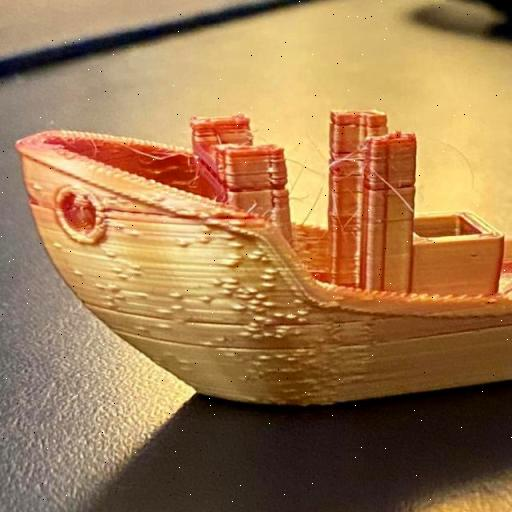blobs: (225, 254, 246, 268), (249, 246, 263, 264), (218, 231, 236, 242), (230, 216, 244, 230), (198, 292, 212, 306), (168, 300, 181, 314), (217, 288, 235, 298), (102, 294, 117, 306), (230, 304, 246, 315), (176, 238, 190, 250), (168, 291, 184, 301), (294, 306, 307, 318), (252, 331, 264, 344), (262, 298, 276, 309), (225, 276, 239, 286), (261, 272, 275, 282), (254, 292, 268, 302), (104, 249, 118, 259), (290, 296, 304, 306), (112, 220, 126, 230), (104, 302, 118, 312), (282, 314, 295, 324), (238, 329, 252, 338), (286, 355, 300, 364), (230, 240, 242, 250), (200, 234, 210, 246), (210, 278, 222, 288), (118, 272, 130, 282), (106, 283, 118, 293), (296, 314, 308, 324), (256, 354, 268, 364), (110, 266, 124, 274), (262, 280, 273, 290), (247, 285, 257, 296), (262, 268, 280, 274), (296, 346, 306, 356), (272, 334, 286, 341), (272, 312, 284, 320), (92, 282, 104, 290), (260, 332, 274, 338), (202, 227, 212, 235), (133, 268, 141, 278), (132, 262, 142, 270), (138, 290, 148, 298), (72, 269, 82, 277), (252, 316, 264, 322), (274, 328, 286, 334), (248, 322, 258, 328), (274, 354, 286, 359)
stringing: (322, 152, 370, 168), (144, 150, 180, 164)
